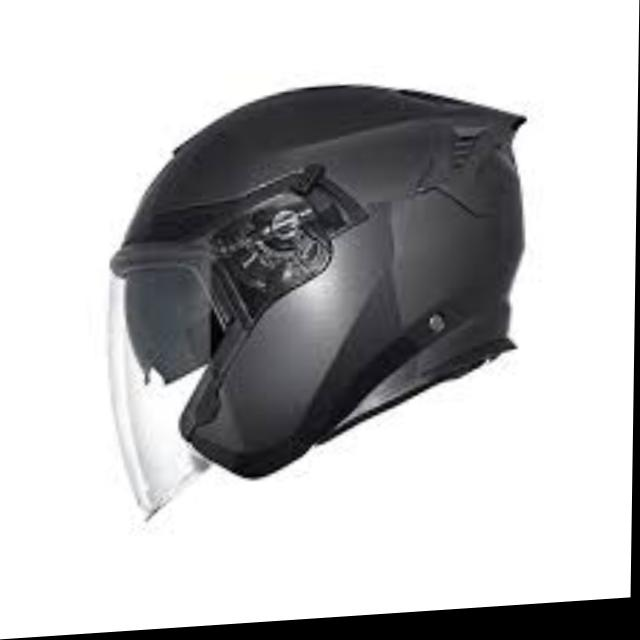motorcycle-helmets: (109, 88, 522, 517)
